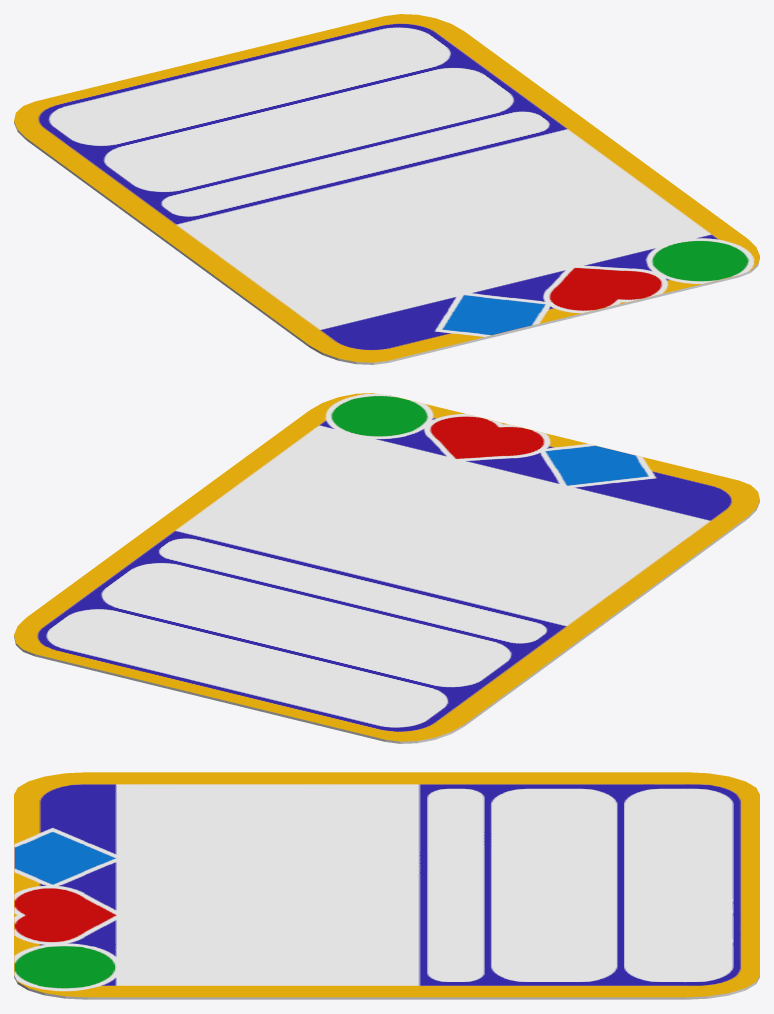
The model's file is Card.fbx.
3 views of the same model, one above another, from view 1: azimuth 30°, elevation 25°; view 2: azimuth 150°, elevation 25°; view 3: azimuth 270°, elevation 25° (orthographic). The views are drawn at different scales.
Parts seen in each view (by area): view 1: Card; view 2: Card; view 3: Card.
Boxes of the visible parts, bbox=[...] form: Card: bbox=[14, 14, 759, 364]; Card: bbox=[14, 393, 759, 743]; Card: bbox=[14, 772, 759, 999].
Bounding box in the file's own units: 125 × 0.6212 × 175.
